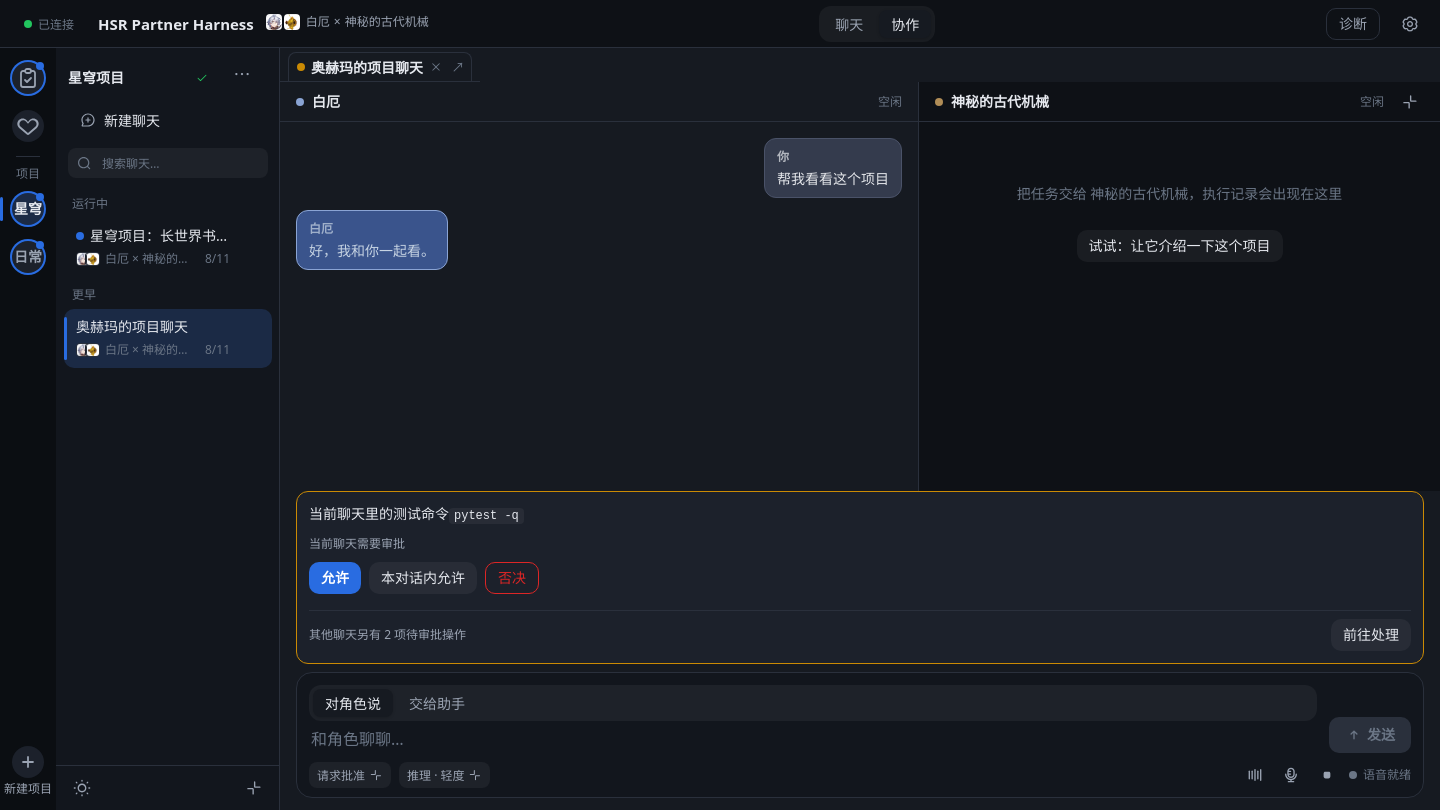
Test: 项目轨道入口与非聊天视图 › 后台任务总览入口打开跨聊天总览
Click the button named "后台任务总览" at (28, 78), box top-left (6, 56), bottom-right (50, 100)
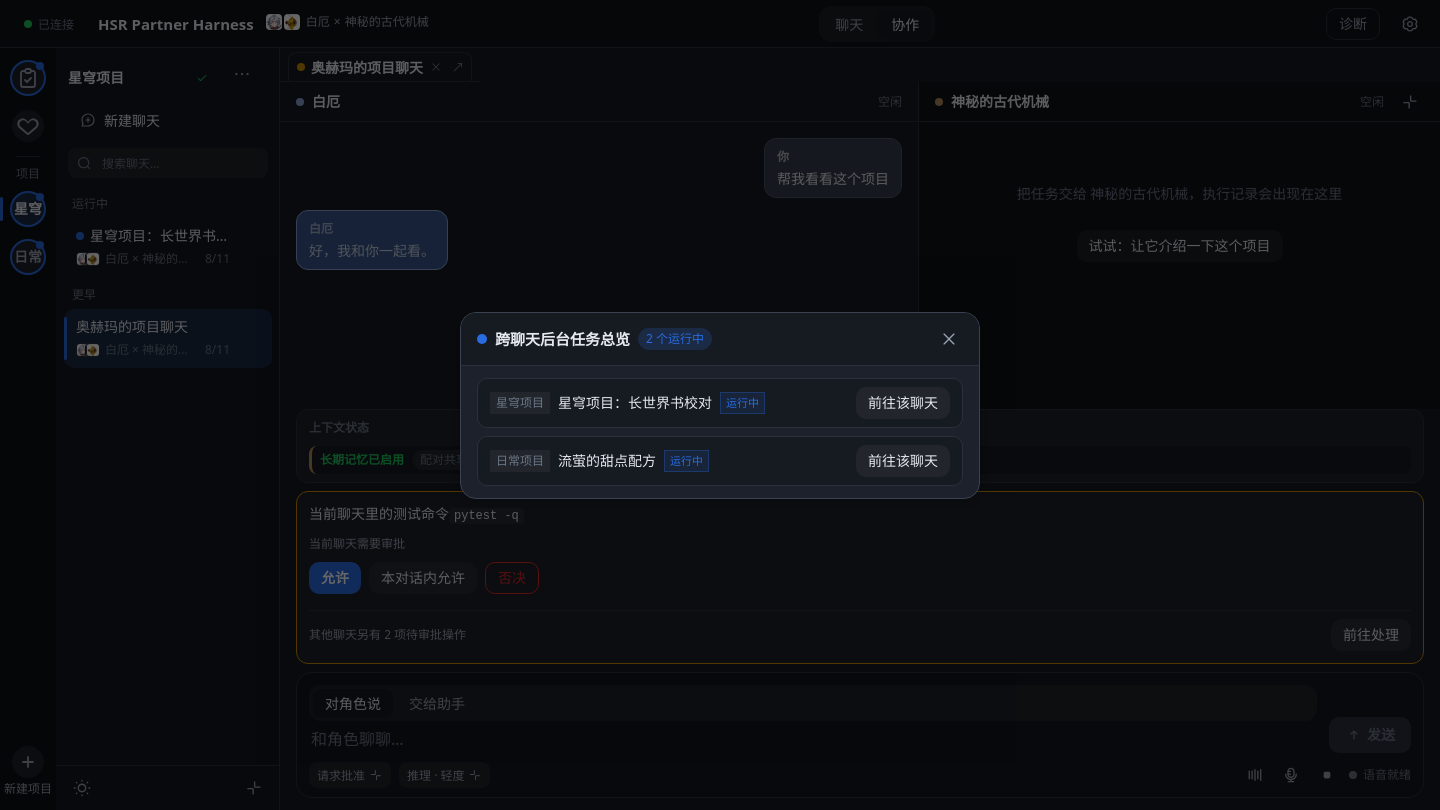
Now the dialog "跨聊天后台任务总览" shows "2 个运行中", box top-left (460, 312), bottom-right (980, 498)
